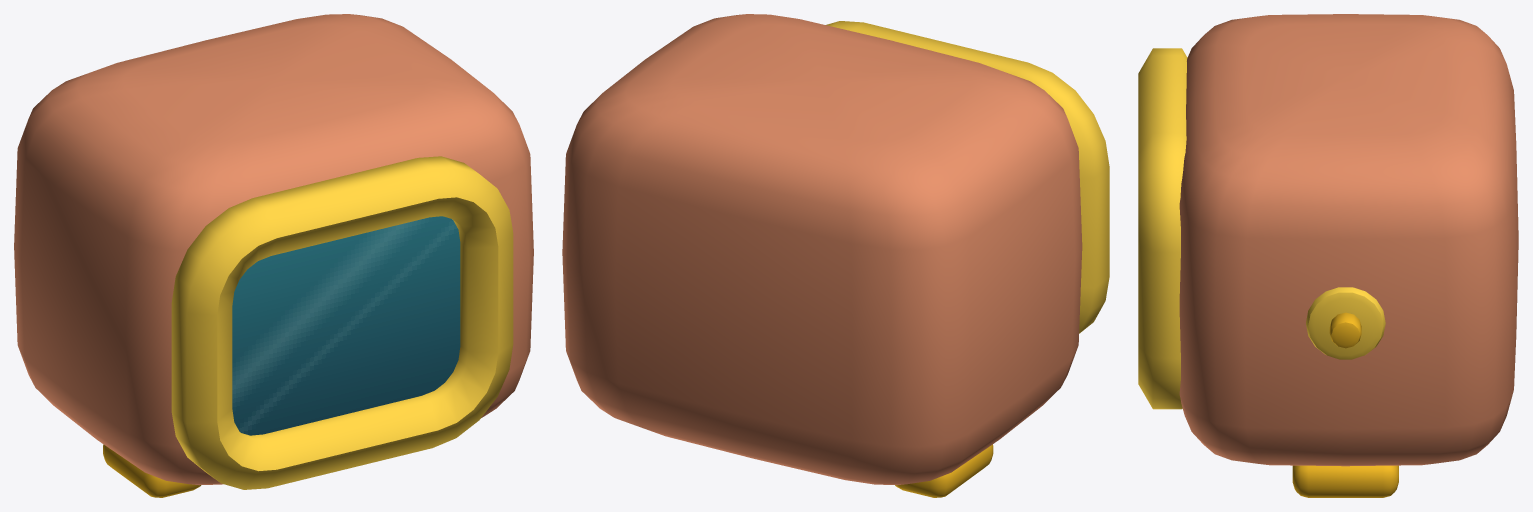
The model's file is tv_pequena.glb.
3 renders of one model, left to right at view 1: azimuth 30°, elevation 25°; view 2: azimuth 150°, elevation 25°; view 3: azimuth 270°, elevation 25°, orthographic. The views are drawn at different scales.
Visible parts, largest first — view 1: tv_pequena; view 2: tv_pequena; view 3: tv_pequena.
Part boxes in pixels (<box>): tv_pequena: <box>14,14,533,497</box>; tv_pequena: <box>562,14,1109,497</box>; tv_pequena: <box>1138,14,1518,497</box>.
Bounding box in the file's own units: 0.362 × 0.295 × 0.286.
Materials: 2 (2 with a texture image).
